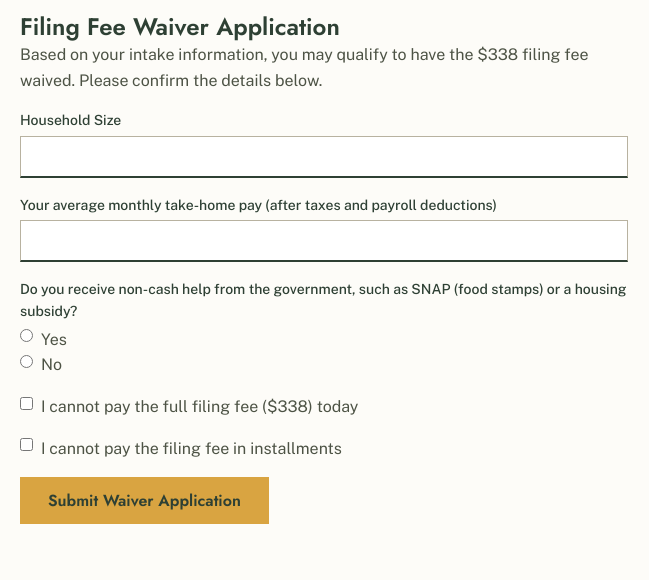
it: FeeWaiverPage › shows error when submission fails
Type "1" into the number field labelled "Household Size". click: (324,157)
box: [20, 136, 628, 178]
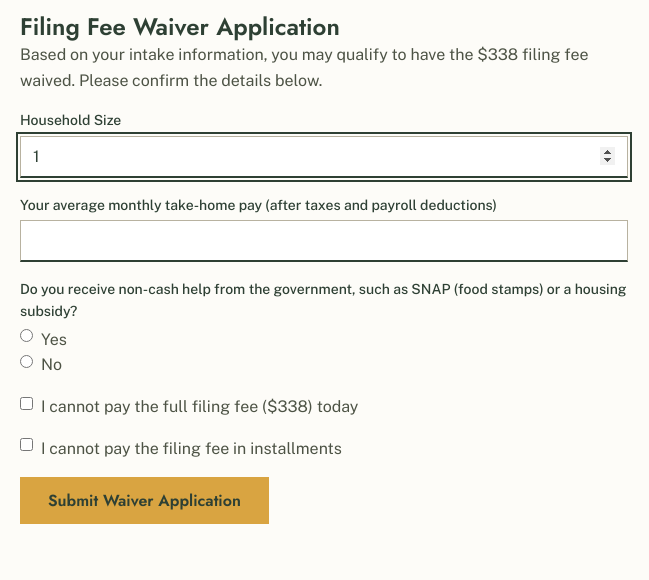
Type "1200" into the number field labelled "take-home pay". click: (324,241)
box: [20, 220, 628, 262]
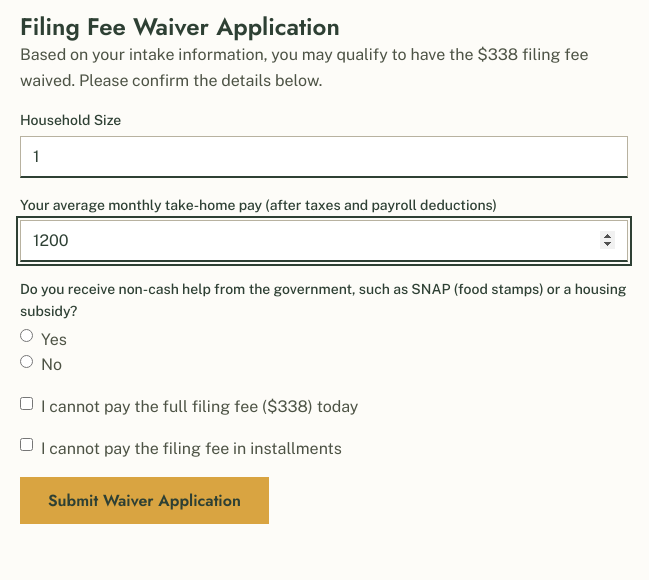
Click the radio button labelled "No". click: (26,362)
box: [20, 355, 33, 368]
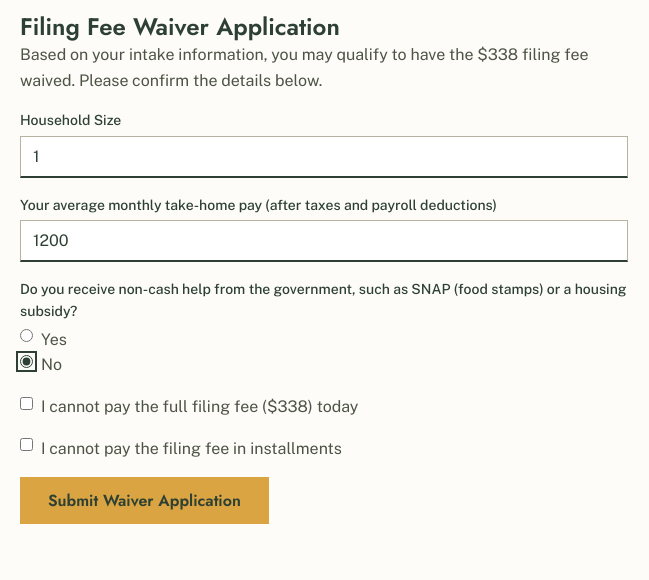
Click the button "Submit Waiver Application". click: (144,501)
box: [20, 477, 269, 524]
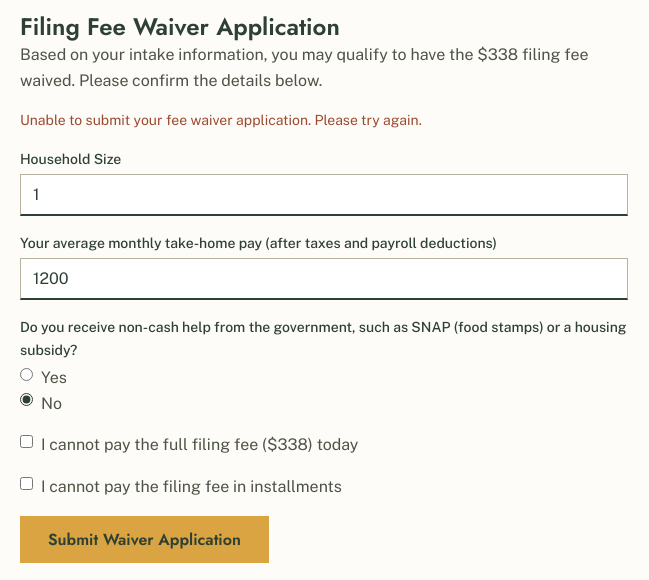
Check: the message "Unable to submit your fee waiver application. Please try again." is shown, box [20, 112, 422, 128]
